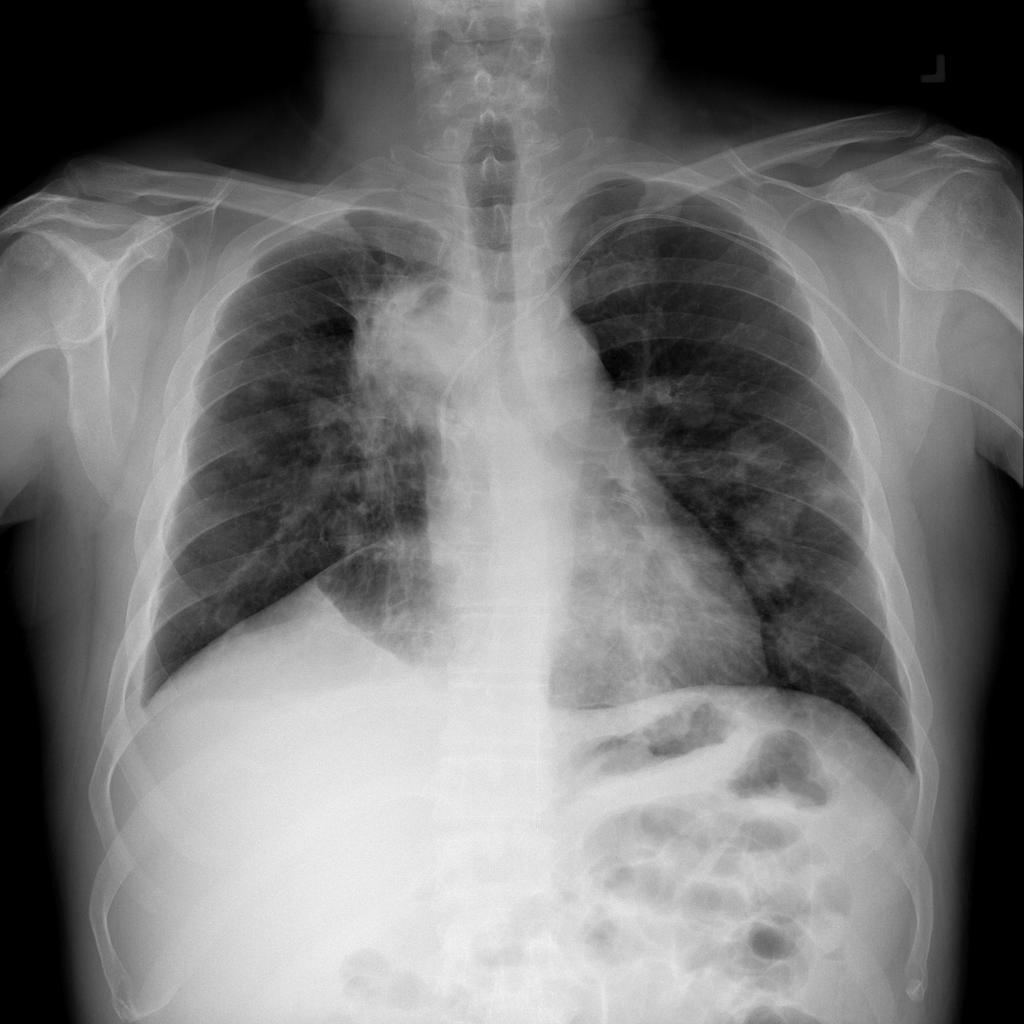nodule: (827, 634, 903, 713), (647, 371, 730, 440), (759, 599, 836, 672), (612, 600, 690, 671), (788, 452, 868, 521), (721, 426, 801, 494), (187, 587, 270, 650), (725, 487, 809, 548), (733, 543, 810, 609), (232, 368, 285, 415)
